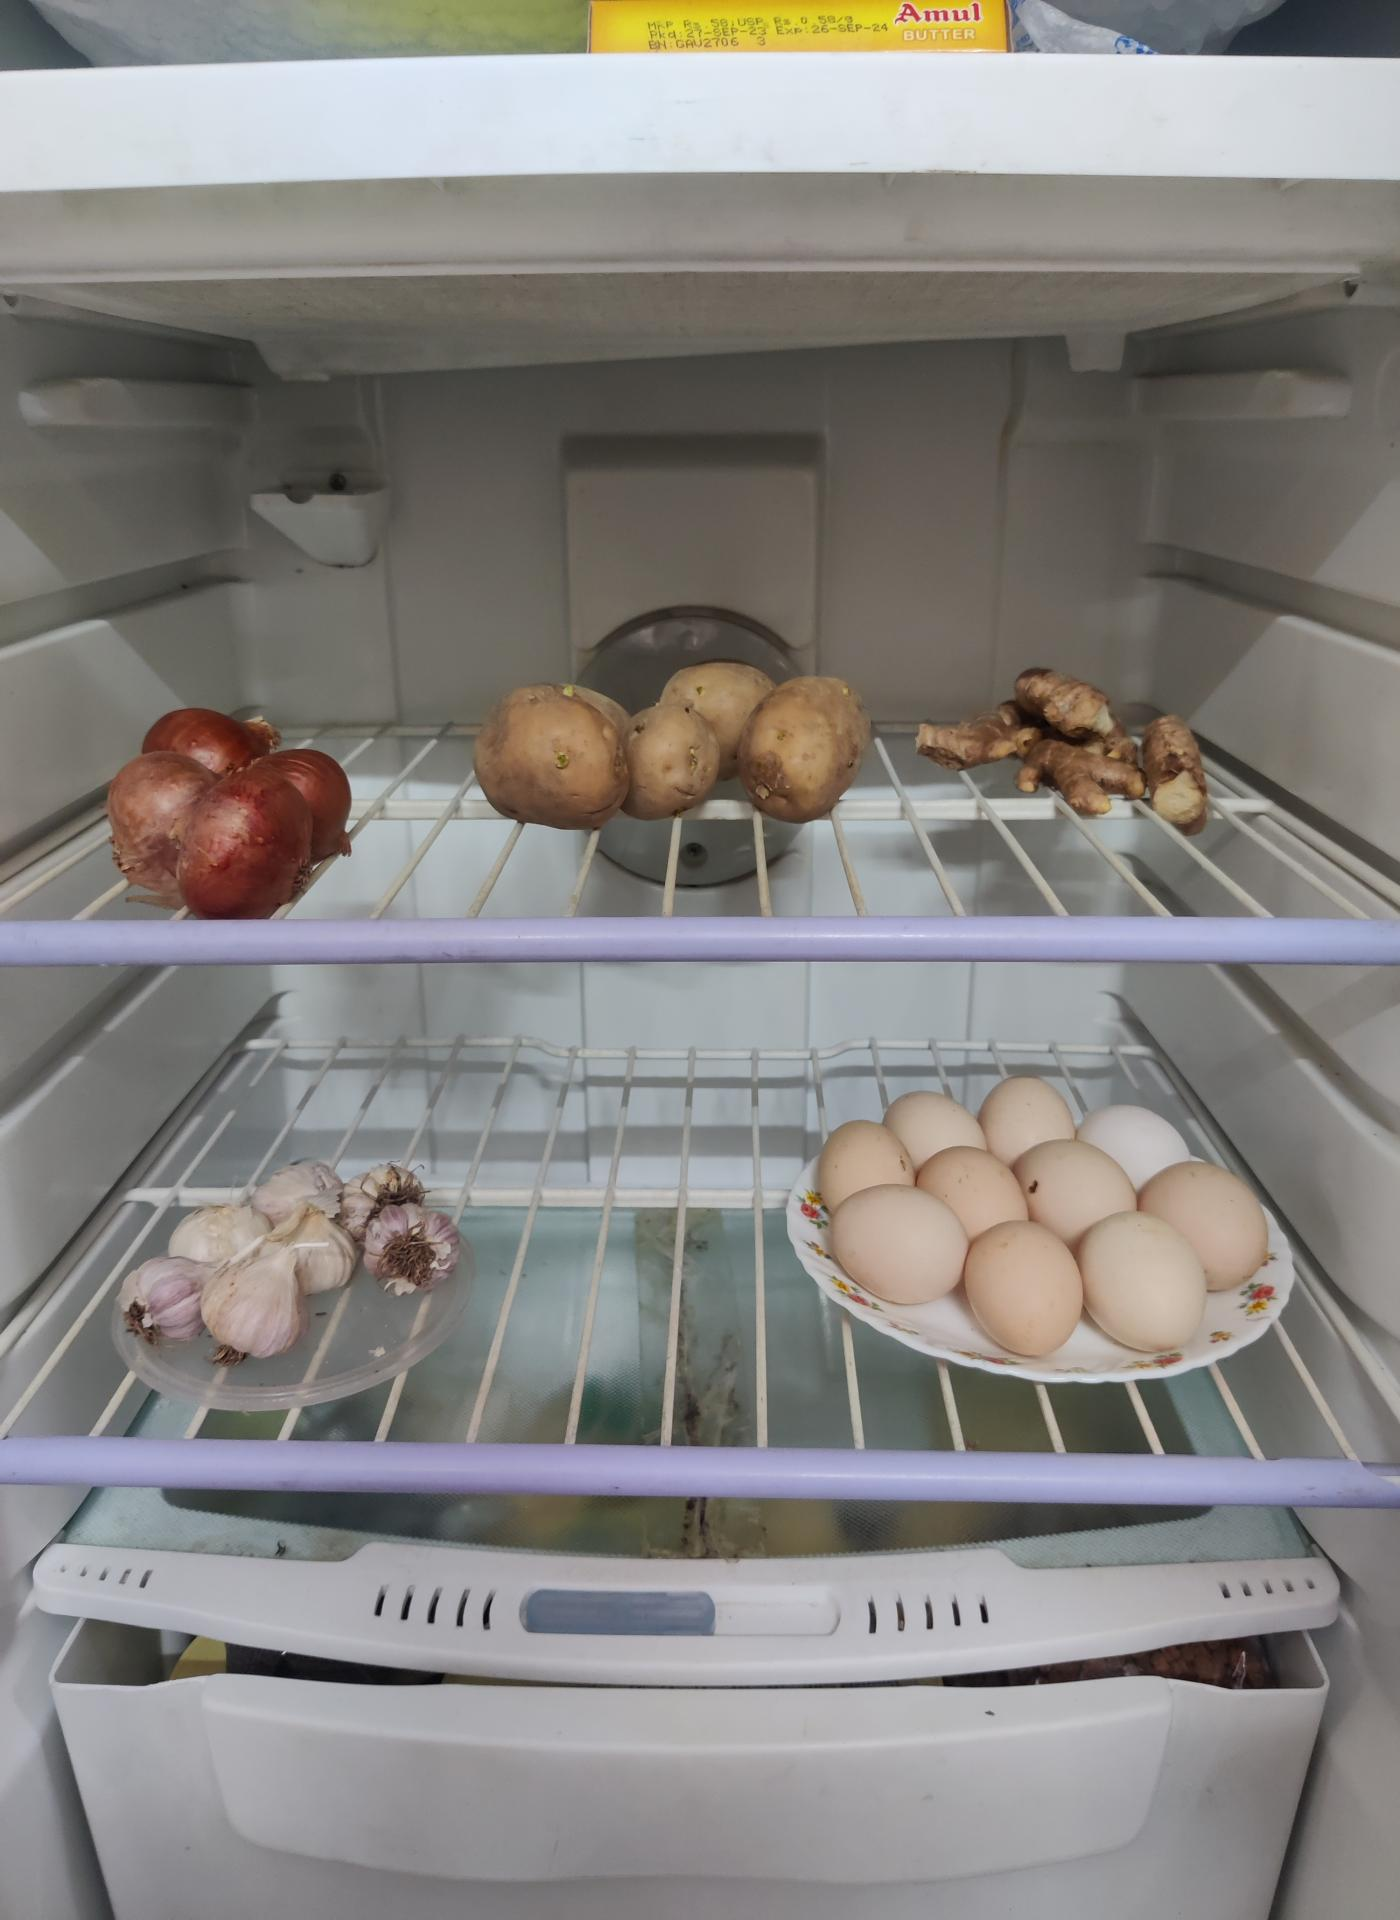egg: (796, 1078, 1269, 1362)
garlic: (131, 1163, 437, 1361)
ginger: (912, 668, 1212, 815)
onion: (103, 705, 350, 915)
potato: (468, 668, 871, 832)
